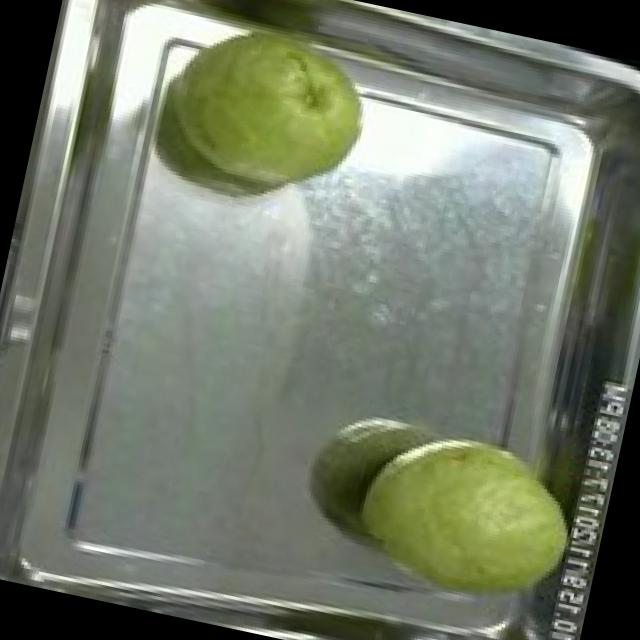Fruit: (131, 0, 392, 225), (337, 403, 590, 628)
